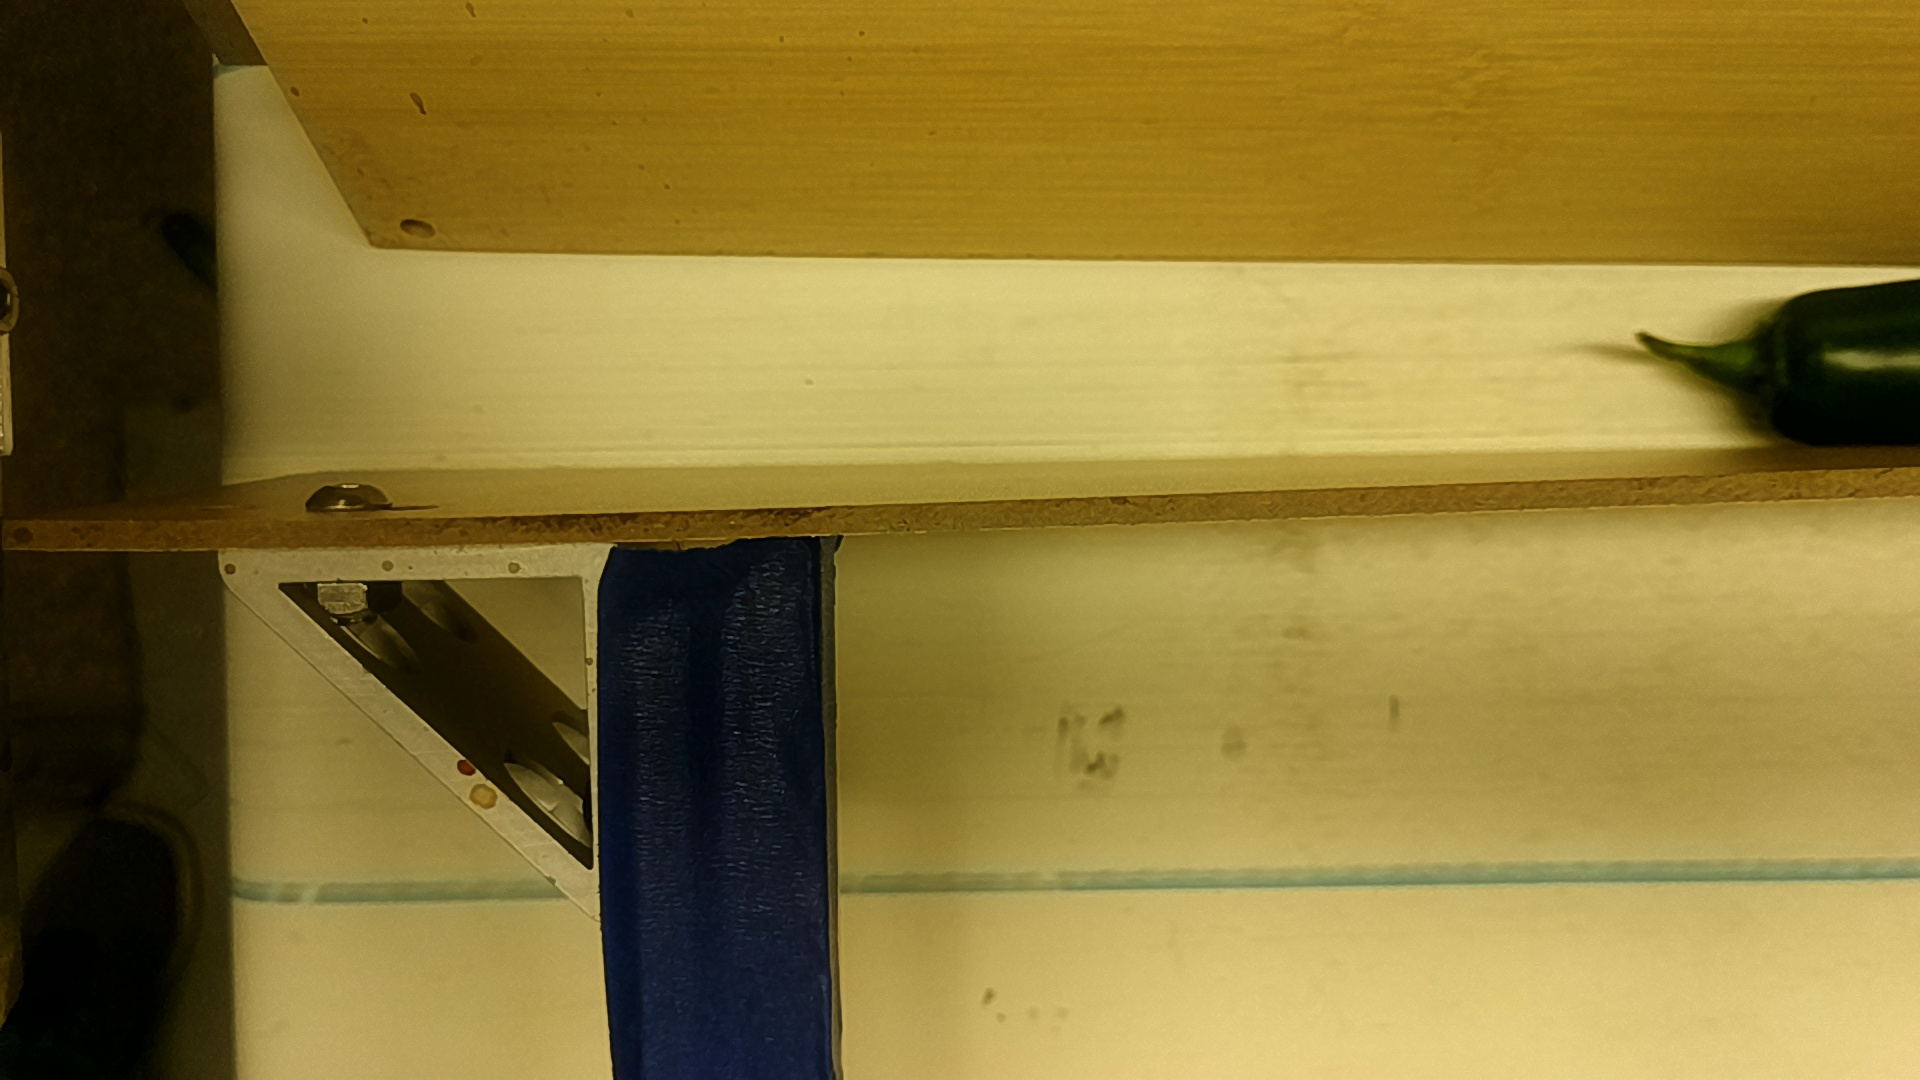Cut Point: (1735, 280, 1821, 446)
